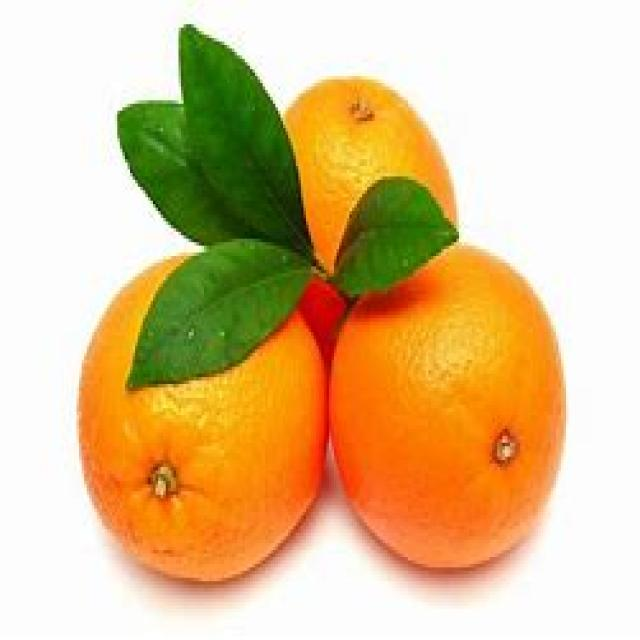Ripe: (75, 253, 330, 586), (333, 240, 569, 576)
